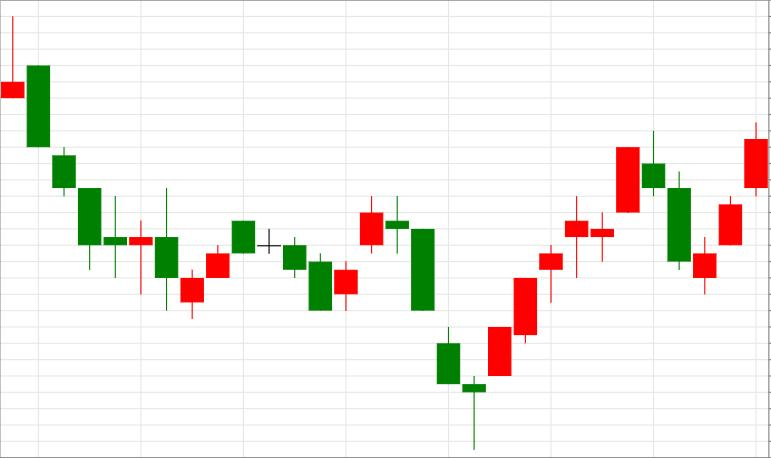morning_star_rise: (361, 196, 511, 449)
three_white_soldiers_rise: (642, 123, 768, 295)
